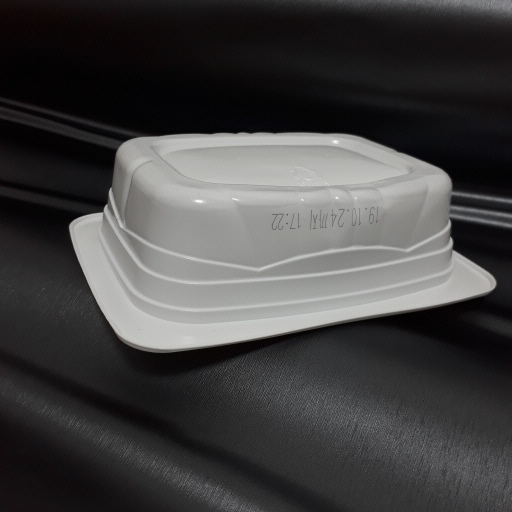Plastic_4: (64, 130, 494, 357)
